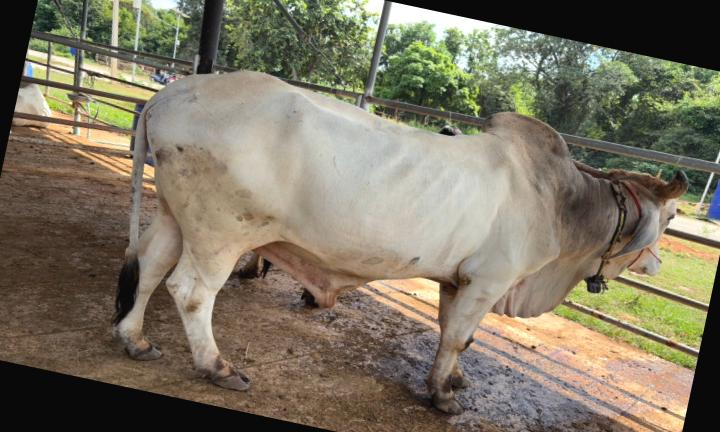Brahman: (113, 71, 688, 414)
